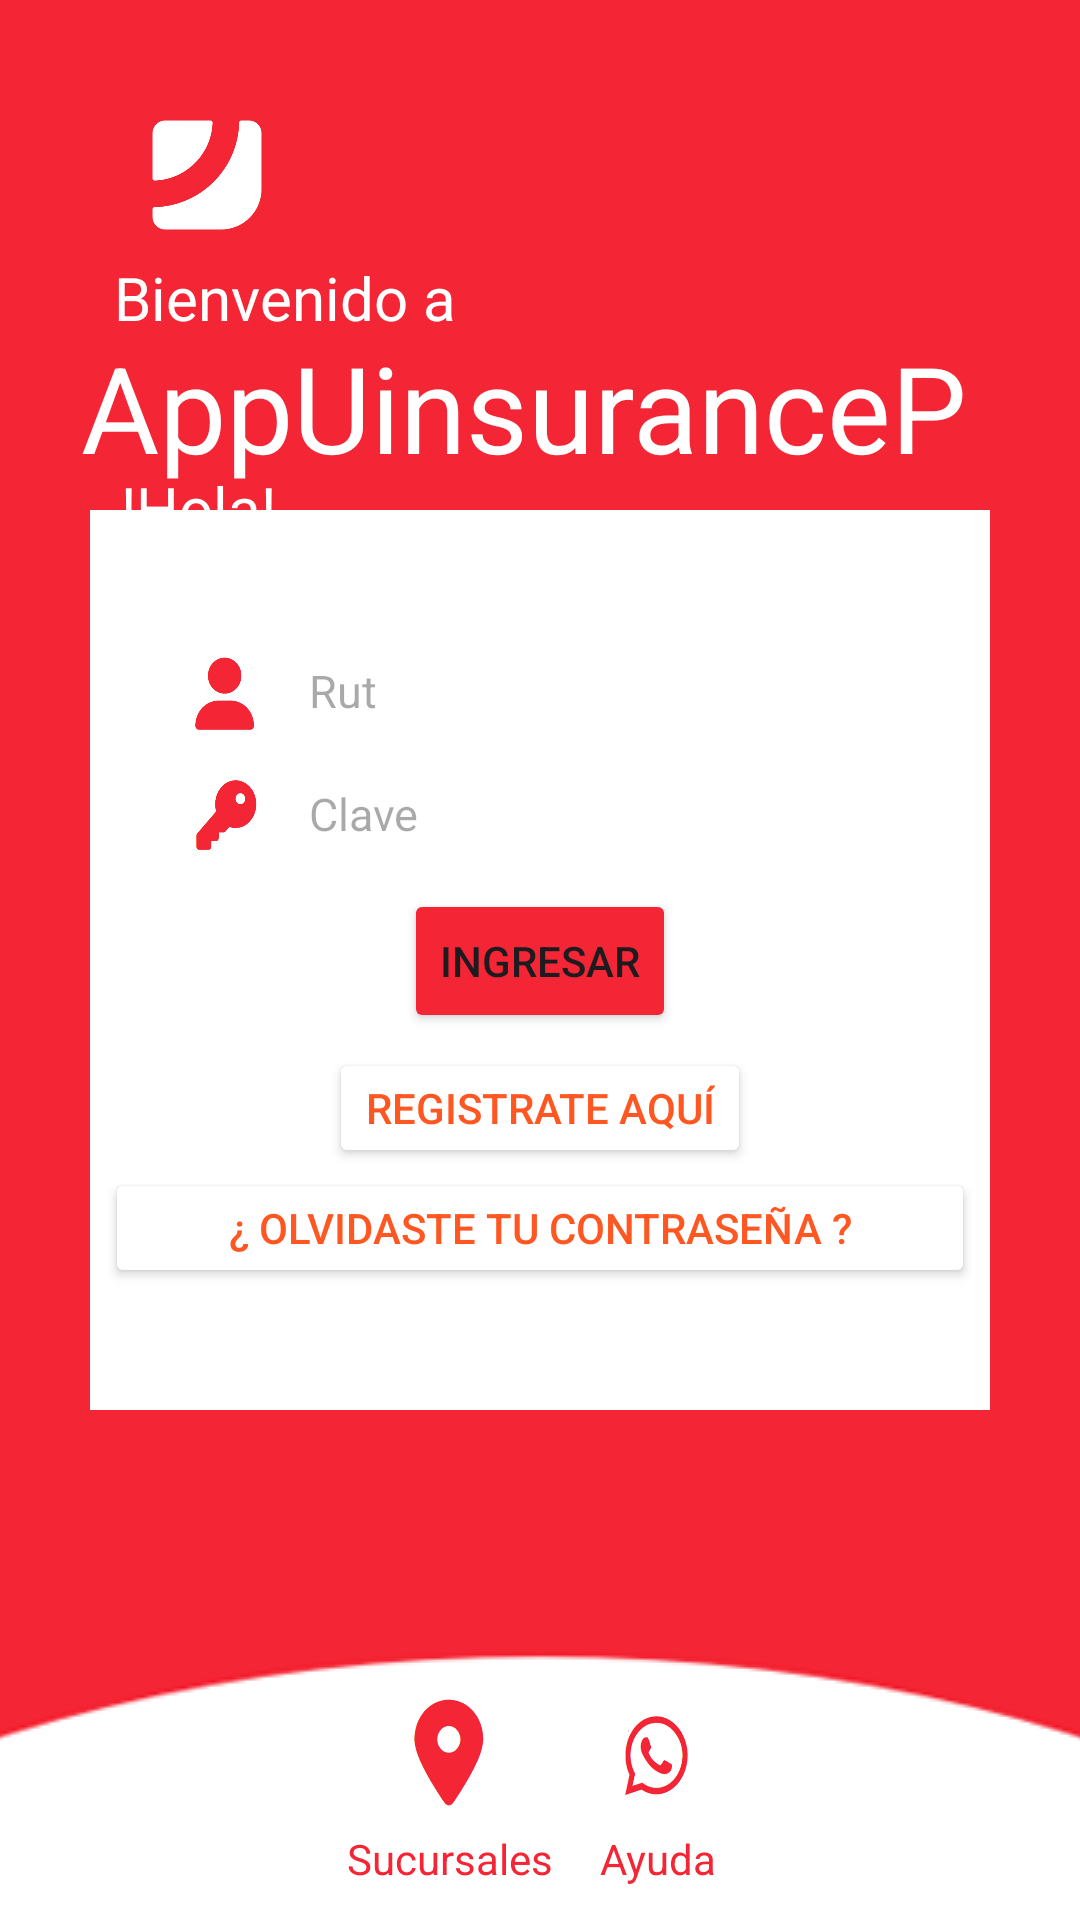

Where icons sit on this 1080x1920 app screen, as box(x1, y1, x2, y2):
keymain: box(196, 780, 257, 850)
ubicacionmain: box(414, 1699, 484, 1806)
usermain: box(195, 657, 254, 730)
